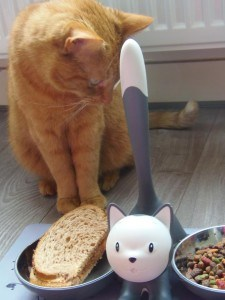slice of bread: (33, 205, 108, 284)
